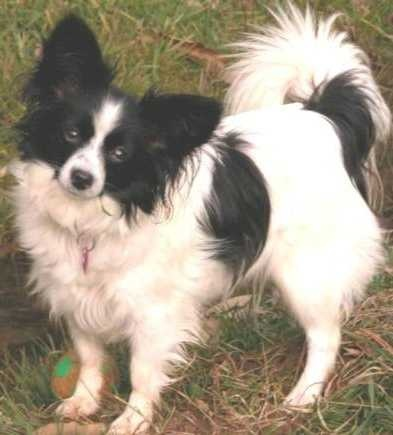Dog: (14, 15, 376, 415)
